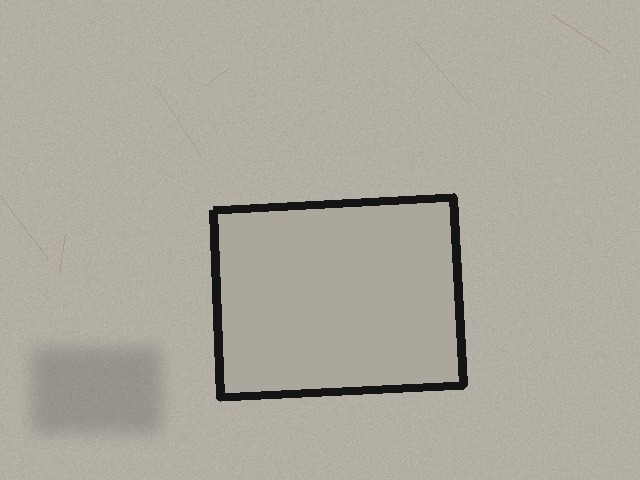parking_area: (213, 197, 463, 397)
